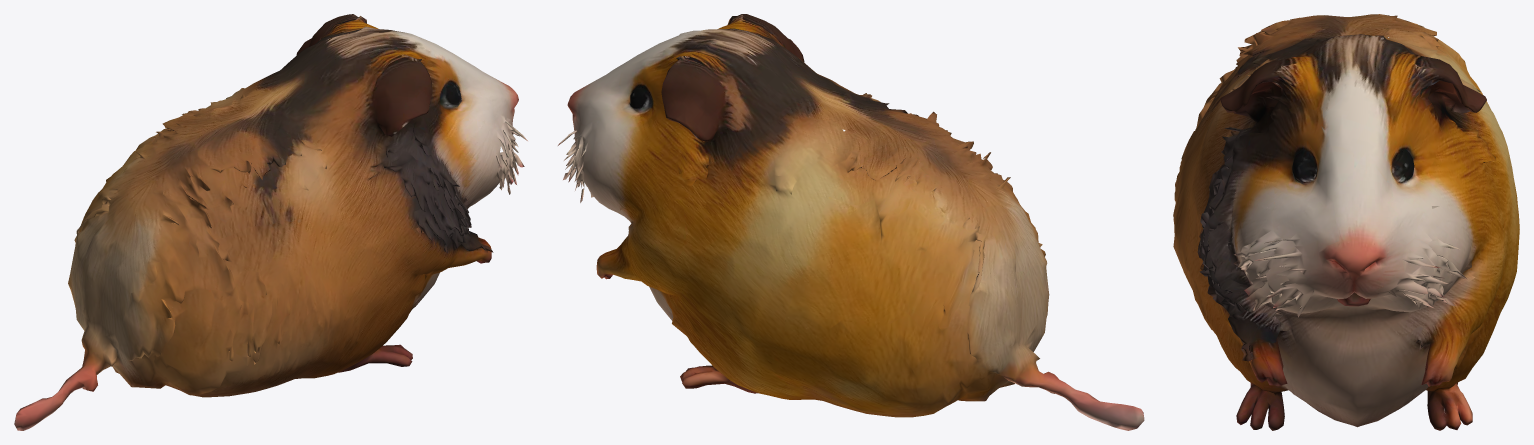
Rendered from guinea-pig.glb.
The picture shows the model from 3 angles, left to right: view 1: azimuth 30°, elevation 25°; view 2: azimuth 150°, elevation 25°; view 3: azimuth 270°, elevation 25°; orthographic projection. The views are drawn at different scales.
Parts seen in each view (by area): view 1: tripo_node_28b557ad-351d-4136-8ff6-d304402984e9; view 2: tripo_node_28b557ad-351d-4136-8ff6-d304402984e9; view 3: tripo_node_28b557ad-351d-4136-8ff6-d304402984e9.
Boxes of the visible parts, x1=… form: tripo_node_28b557ad-351d-4136-8ff6-d304402984e9: x1=14, y1=14, x2=527, y2=430; tripo_node_28b557ad-351d-4136-8ff6-d304402984e9: x1=558, y1=14, x2=1144, y2=430; tripo_node_28b557ad-351d-4136-8ff6-d304402984e9: x1=1173, y1=14, x2=1519, y2=430.
Bounding box in the file's own units: 1 × 0.5528 × 0.4547.
Materials: 1 (1 with a texture image).
